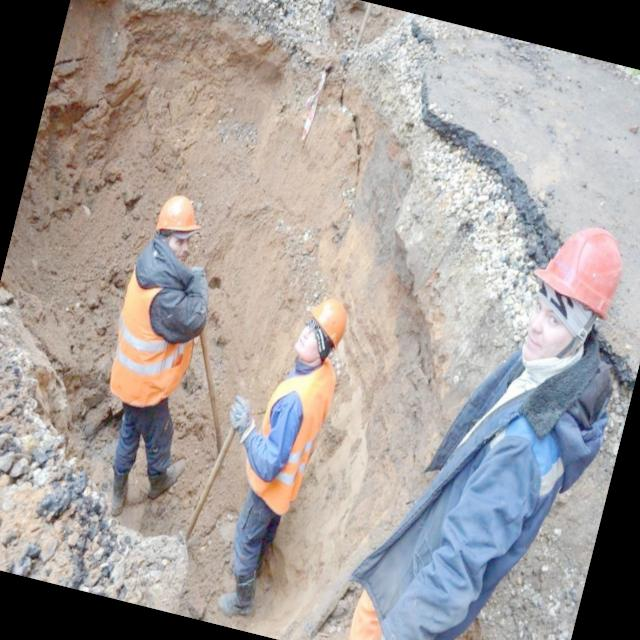Helmet: (526, 214, 631, 322), (297, 292, 354, 353), (153, 191, 209, 246)
Jacket: (108, 243, 206, 406), (247, 344, 338, 518)
NoJacket: (383, 303, 595, 640)
